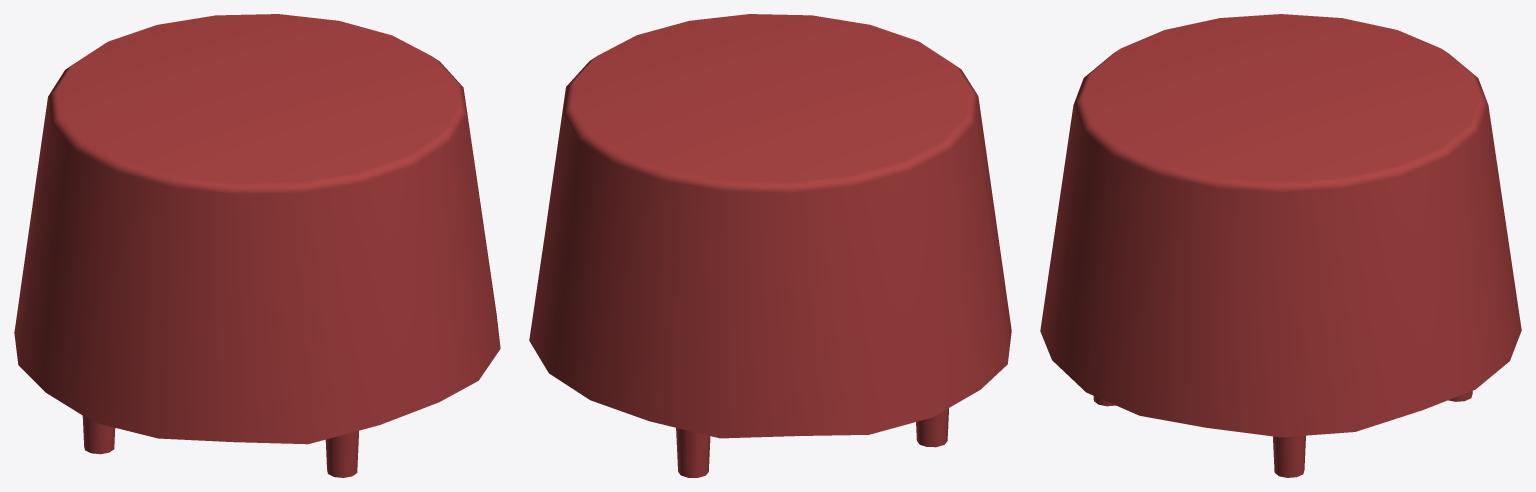
File: Bord.fbx
The picture shows the model from 3 angles, left to right: view 1: azimuth 30°, elevation 25°; view 2: azimuth 150°, elevation 25°; view 3: azimuth 270°, elevation 25°; orthographic projection.
Visible parts, largest first — view 1: polySurface612; view 2: polySurface612; view 3: polySurface612.
Boxes of the visible parts, x1,y1,x2,y2 form: polySurface612: [14, 14, 500, 477]; polySurface612: [529, 14, 1011, 477]; polySurface612: [1040, 14, 1521, 477].
Size of the model in its own units: 140 by 97.19 by 140.
